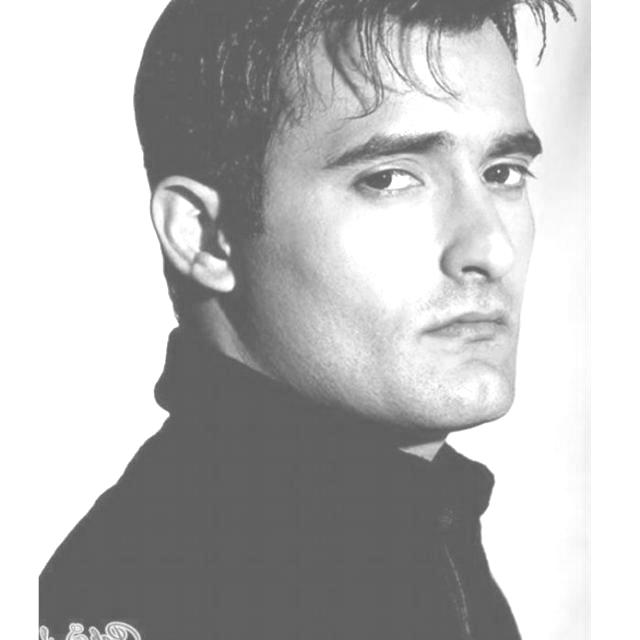real: (137, 0, 559, 437)
